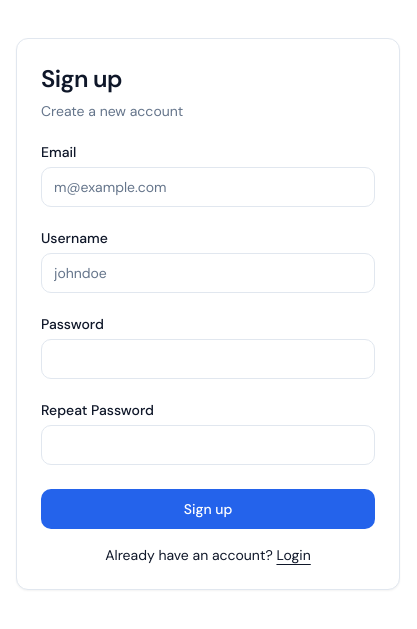
Test: SignUpPage › displays error message on sign up failure
Type "test@example.com" into the field labelled "Email".
click(208, 187); type("test@example.com")  # box [41, 167, 375, 207]
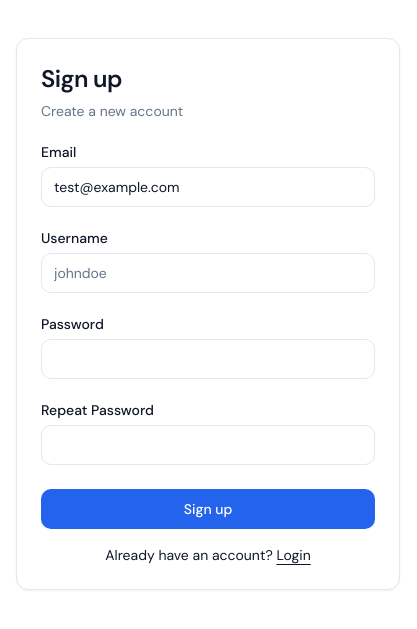
Type "testuser" into the field labelled "Username".
click(208, 273); type("testuser")  # box [41, 253, 375, 293]
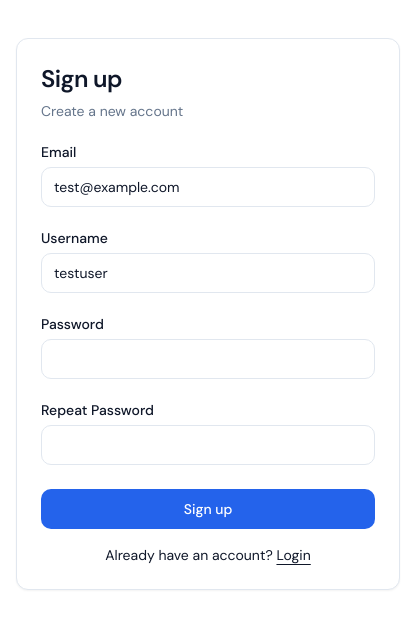
Type "password123" into the password field labelled "Password".
click(208, 359); type("password123")  # box [41, 339, 375, 379]
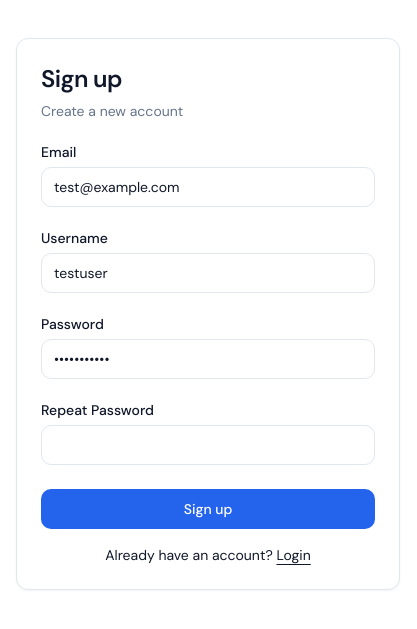
Type "password123" into the password field labelled "Repeat Password".
click(208, 445); type("password123")  # box [41, 425, 375, 465]
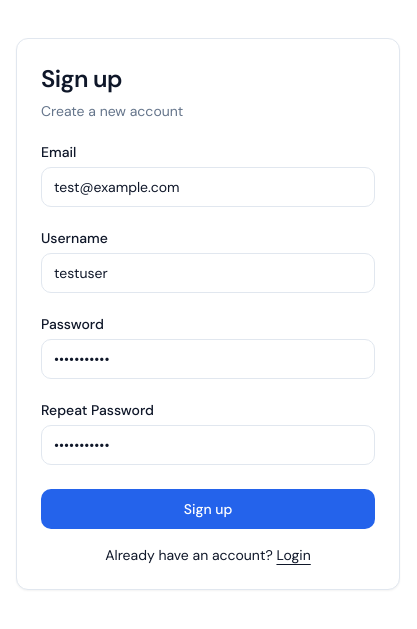
Click the button "Sign up".
click(208, 509)  # box [41, 489, 375, 529]
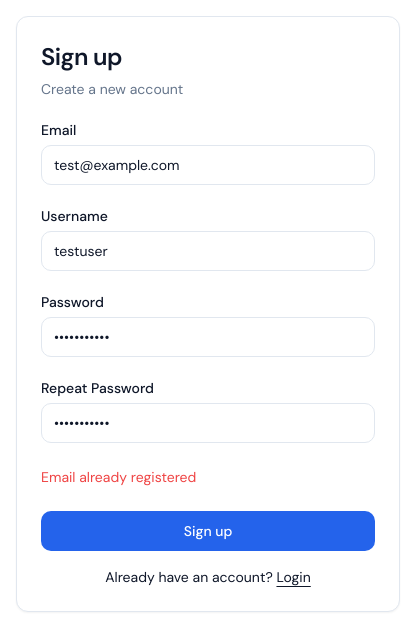
Check: the text "Email already registered" is shown, box [41, 468, 196, 486]
